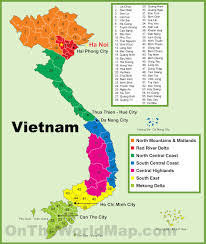Island: (157, 206, 191, 233), (137, 114, 173, 131)
